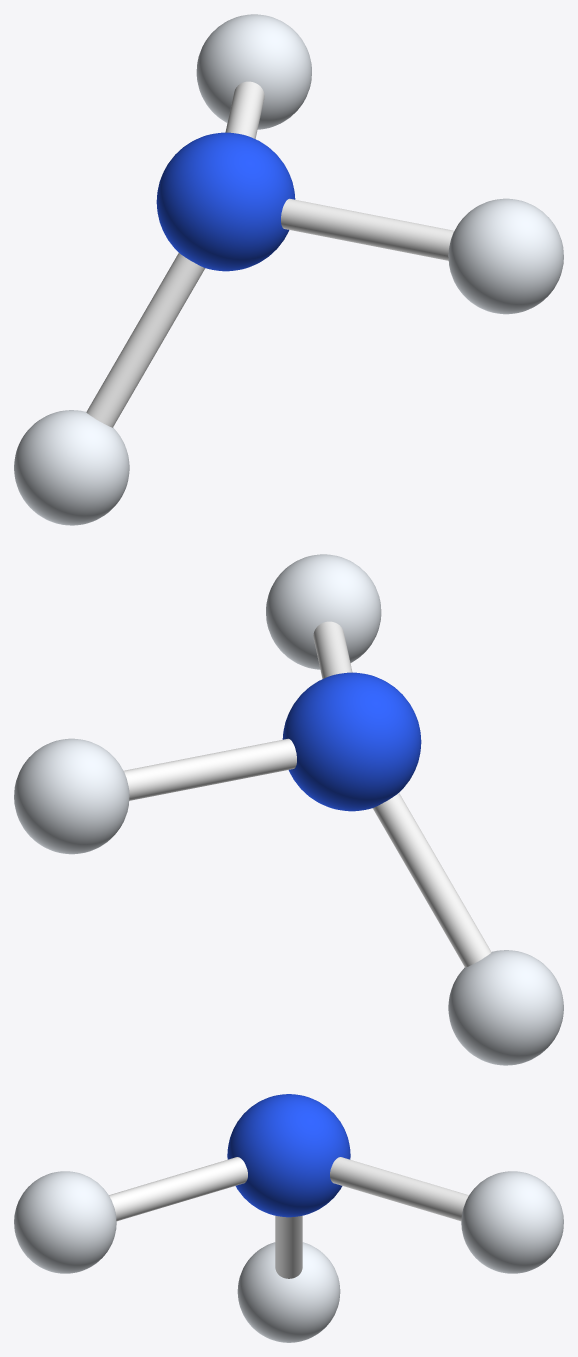
File: ammonia.fbx
3 views of the same model, one above another, from view 1: azimuth 30°, elevation 25°; view 2: azimuth 150°, elevation 25°; view 3: azimuth 270°, elevation 25° (orthographic). The views are drawn at different scales.
Parts seen in each view (by area): view 1: ammonia; view 2: ammonia; view 3: ammonia.
Part boxes in pixels (x1,y1,x2,y2): ammonia: (14,14,563,525); ammonia: (14,554,563,1065); ammonia: (14,1094,563,1342).
Size of the model in its own units: 122 by 98.31 by 161.
